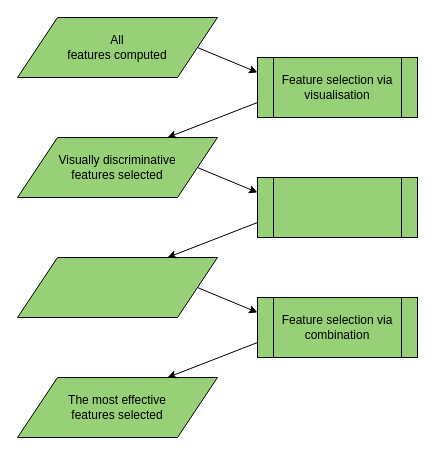
The diagram is 435 pixels wide and 455 high, and some of its shapes have lost their labels. The centre of each missing label's shape, as x and y in pixels:
Feature selection via modelling: (337,207)
Top 3 features selected: (117,287)
